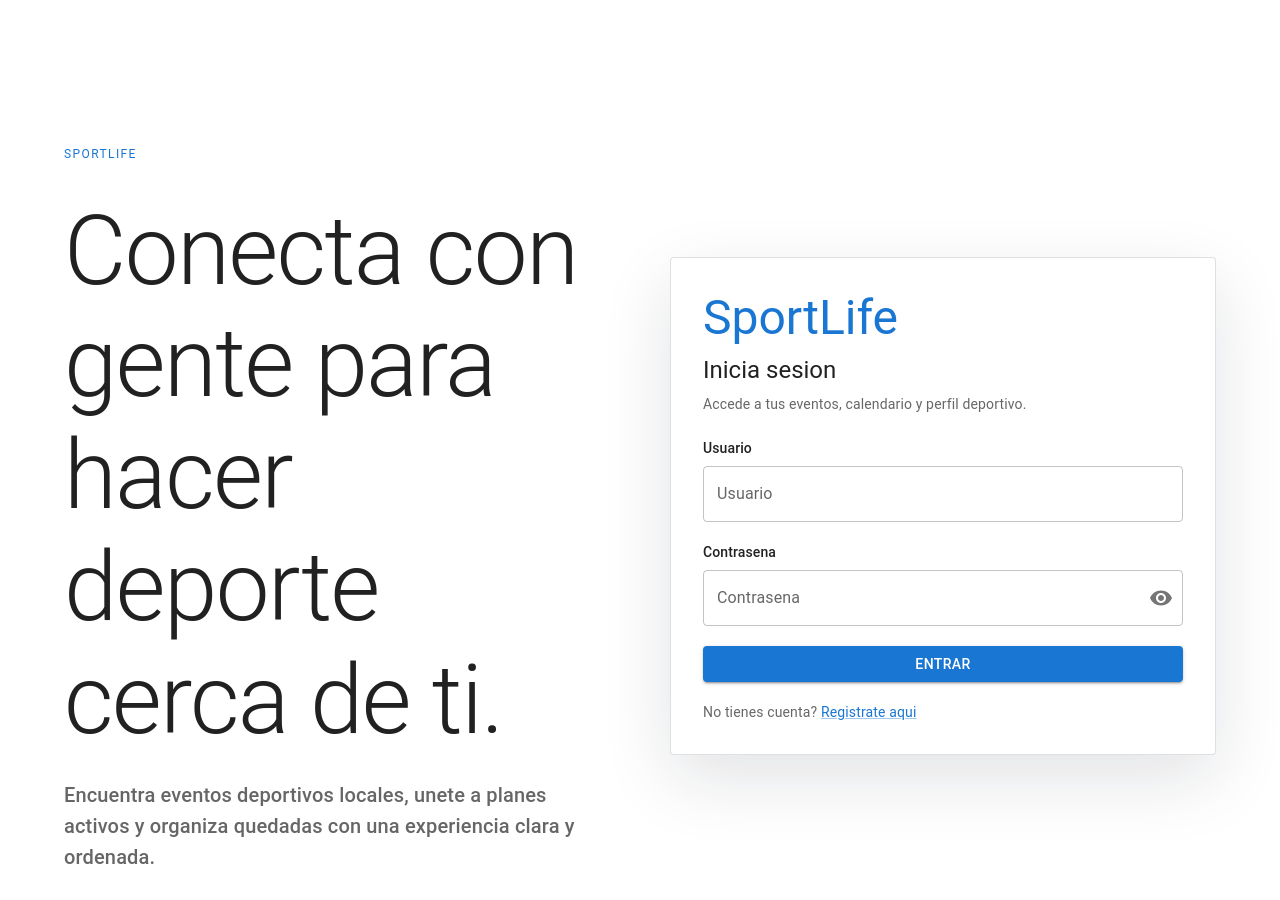
Test case: LoginPage › shows login errors
The image size is (1280, 900).
Type "nacho" into the field at (943, 494), box [703, 466, 1183, 522]
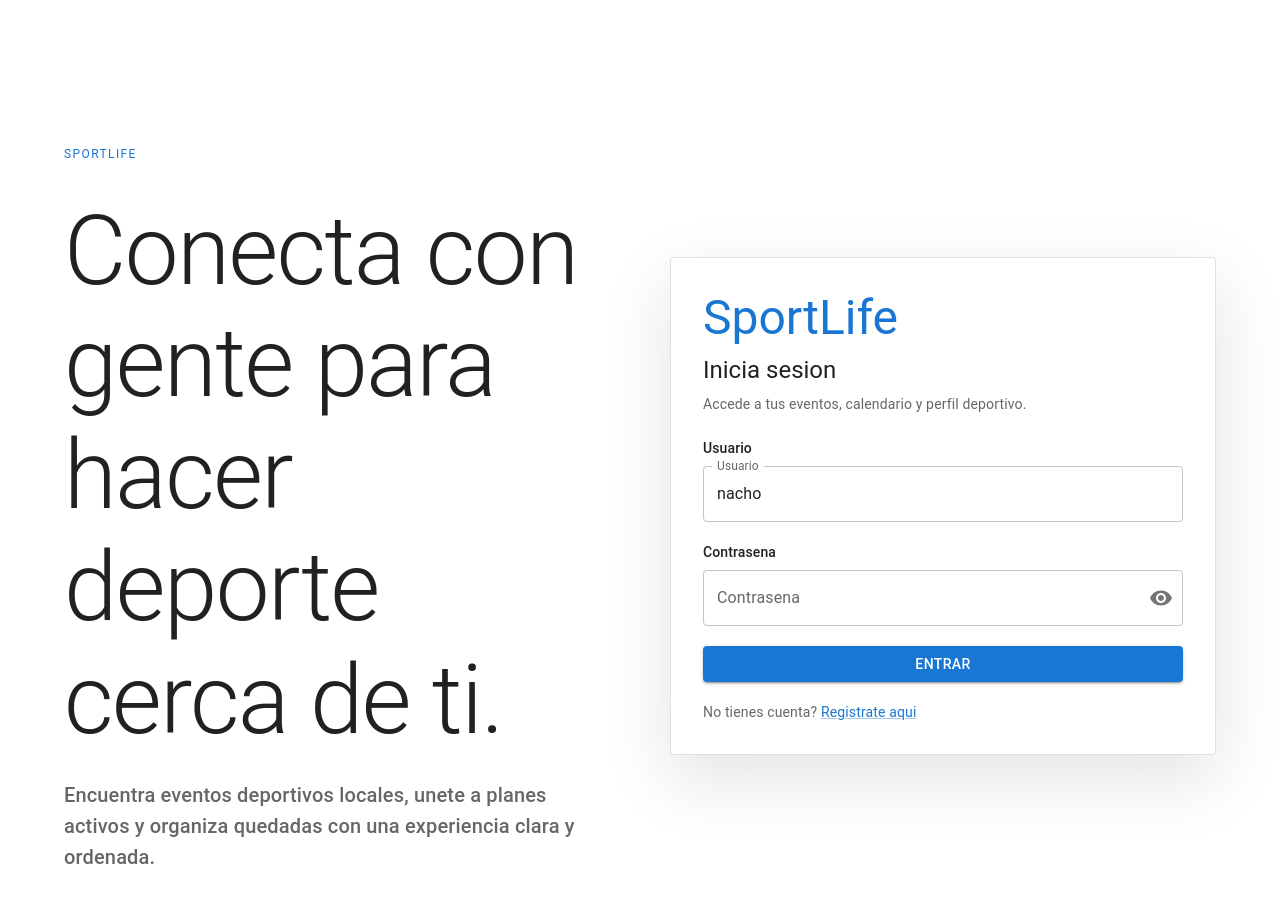
Type "bad" into the password field labelled "Contrasena" at (918, 598), box [703, 570, 1133, 626]
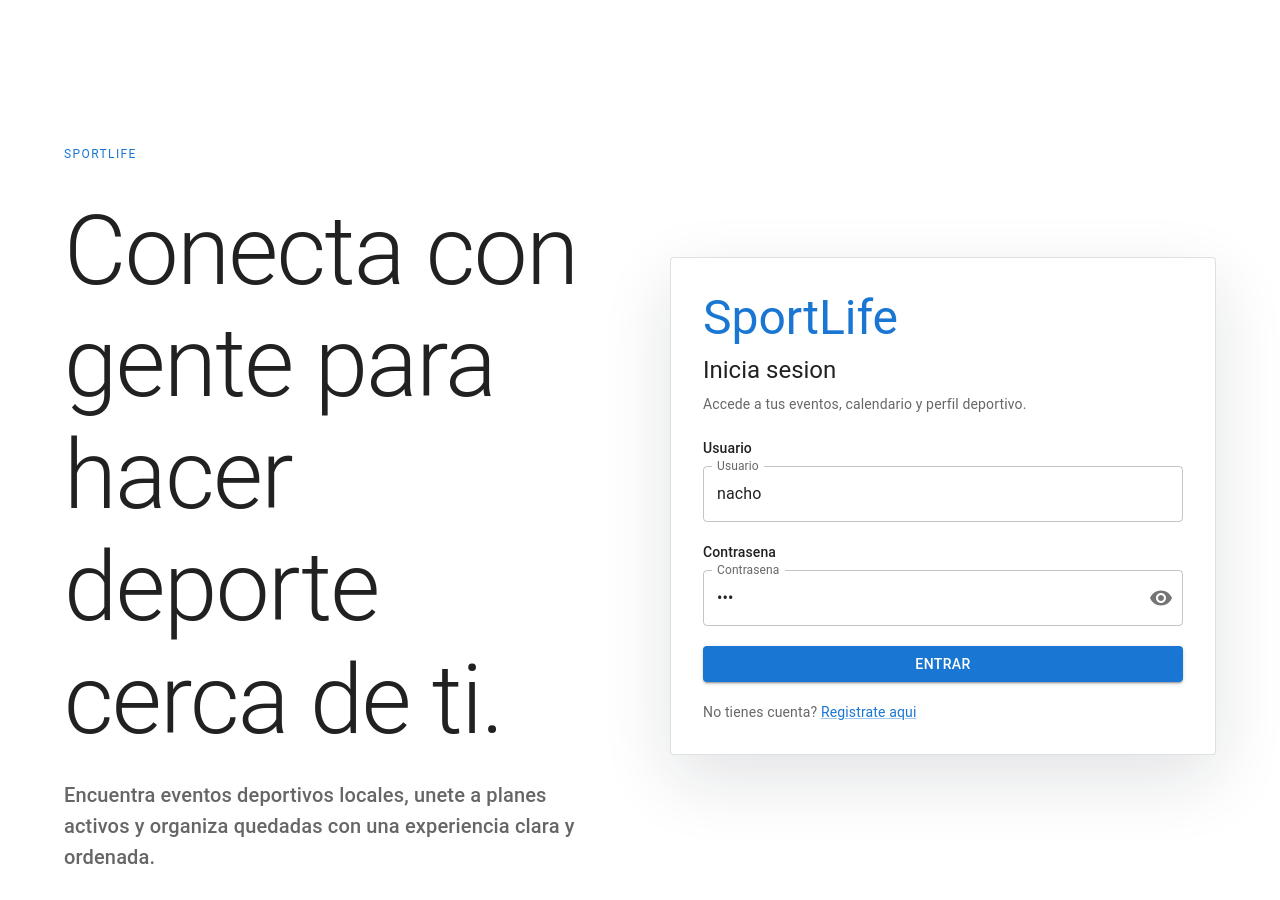
Click the button "Entrar" at (943, 664), box [703, 646, 1183, 682]
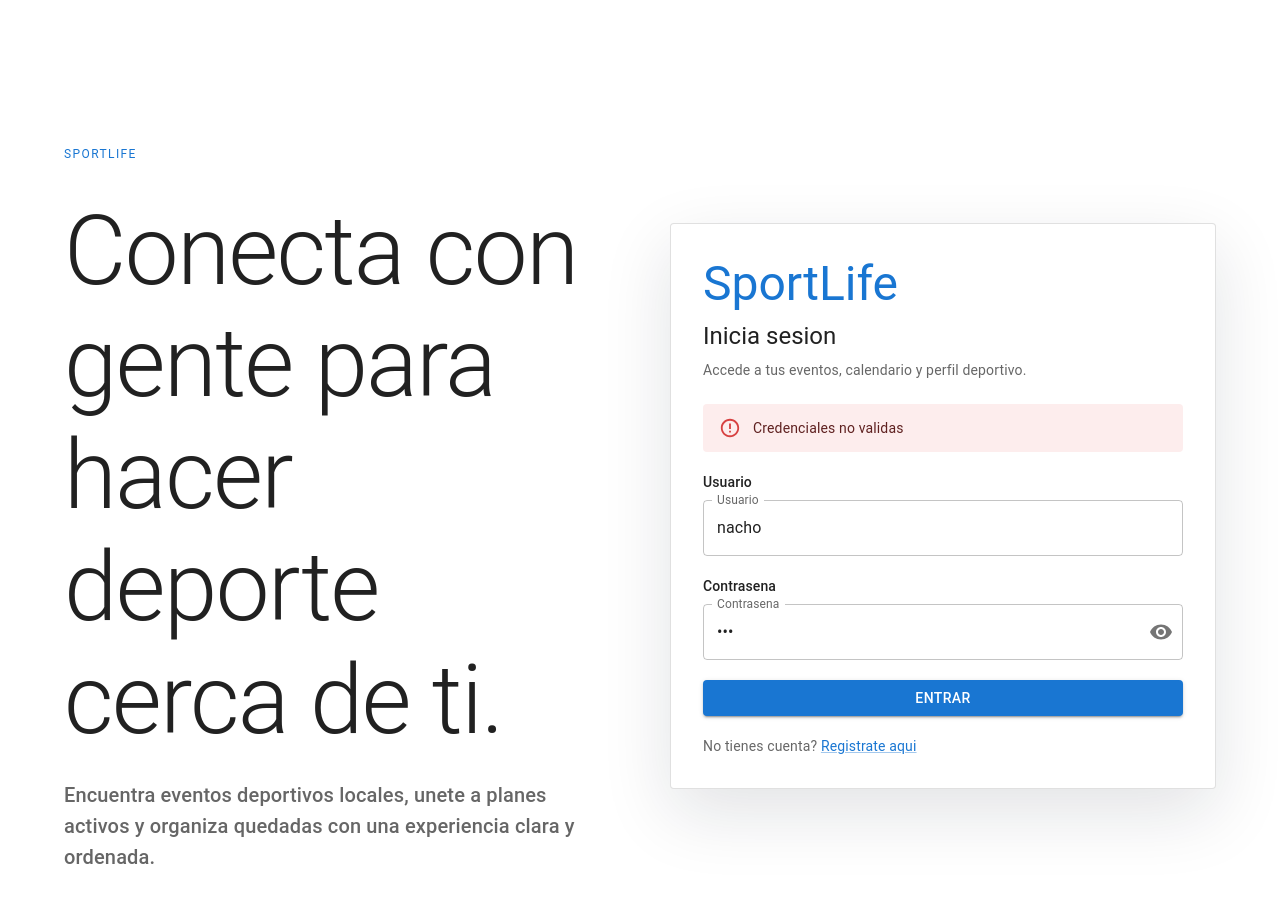
Expected: the text "Credenciales no validas" is shown, [753, 420, 904, 436]
